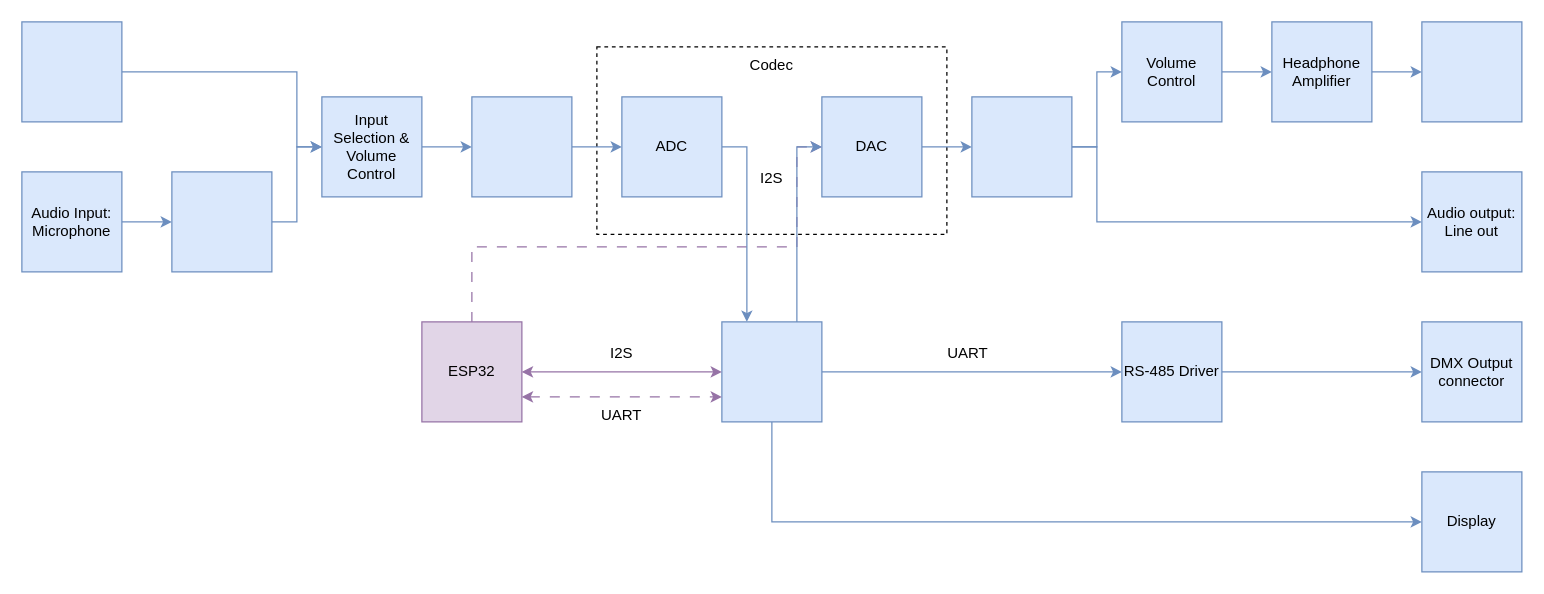
This 1544x594 diagram has some shape labels left out. Here are the shapes that lost their labels. From the top down, the centre of each, then its label:
the point at 71,71: Audio Input: Linne-in
the point at 1471,71: Audio output: Headphone Jack
the point at 521,146: Anti-Aliasing Filter
the point at 1021,146: Reconstruction Filter
the point at 221,221: Microphone Preamplifier
the point at 771,371: STM32
